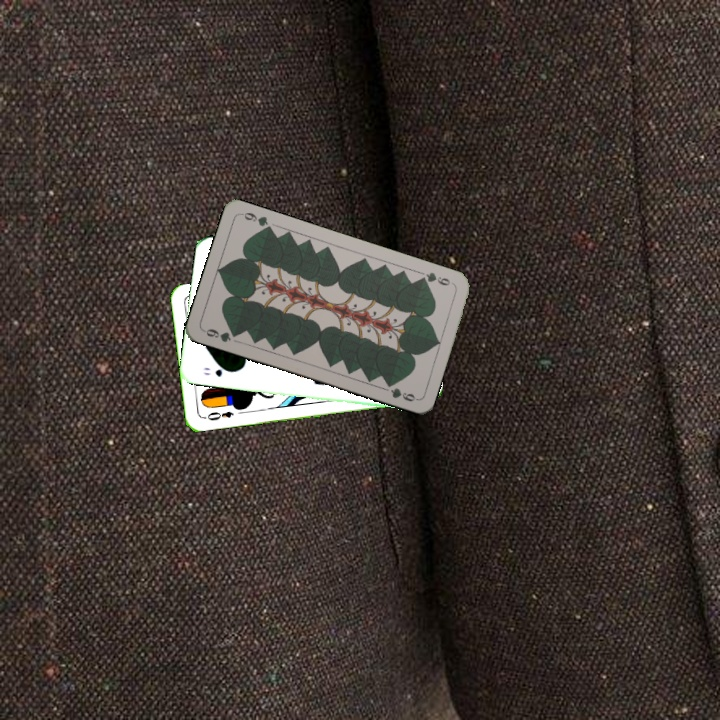EO: (203, 407, 236, 423)
G9: (200, 325, 241, 345), (415, 268, 456, 288)
GO: (200, 363, 235, 379)
